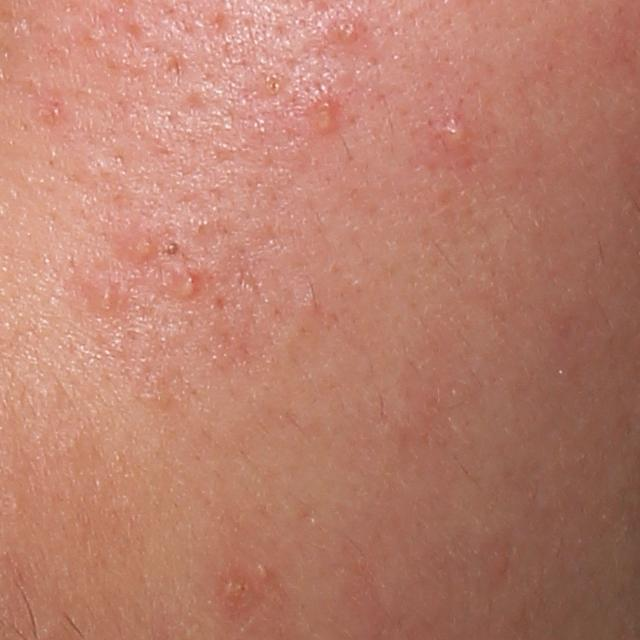comedo: (160, 239, 185, 260)
papule: (309, 98, 340, 139), (93, 281, 122, 317)
pustule: (436, 116, 472, 151), (175, 271, 207, 300)
